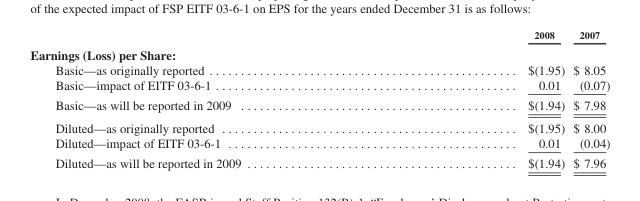table: (29, 28, 609, 169)
table column: (29, 28, 383, 169), (383, 28, 568, 169), (568, 28, 609, 169)
table column header: (29, 28, 609, 43)
table projected row header: (29, 43, 609, 61)
table row: (29, 94, 609, 116), (29, 116, 609, 135), (29, 43, 609, 61), (29, 77, 609, 94), (29, 135, 609, 152), (29, 152, 609, 169), (29, 61, 609, 77), (29, 28, 609, 43)
